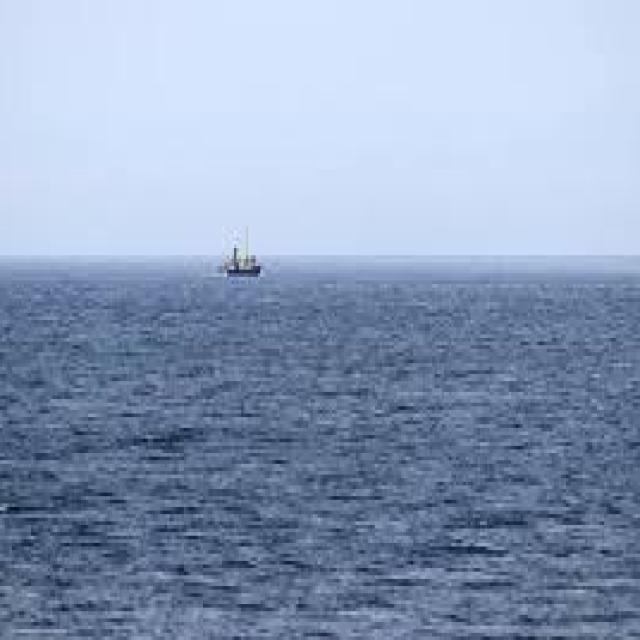fishing boat: (217, 232, 264, 278)
